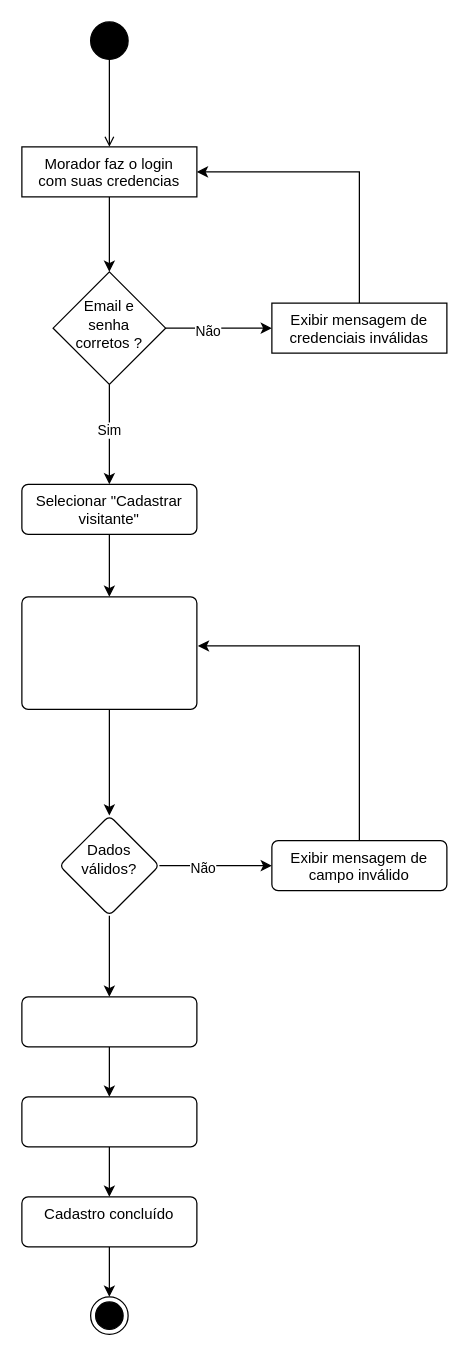
This 469x1356 diagram has some shape labels left out. Here are the shapes that lost their labels. From the top down, the centre of each, then its label:
At (x=109, y=652): "Preencher: • Nome • CPF • Telefone • Foto".
At (x=109, y=1021): "Sistema registra visitante".
At (x=109, y=1121): "Sistema notifica a portaria".
